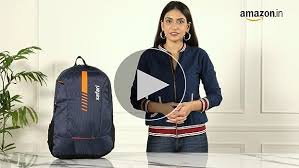backpack: (47, 55, 115, 159)
